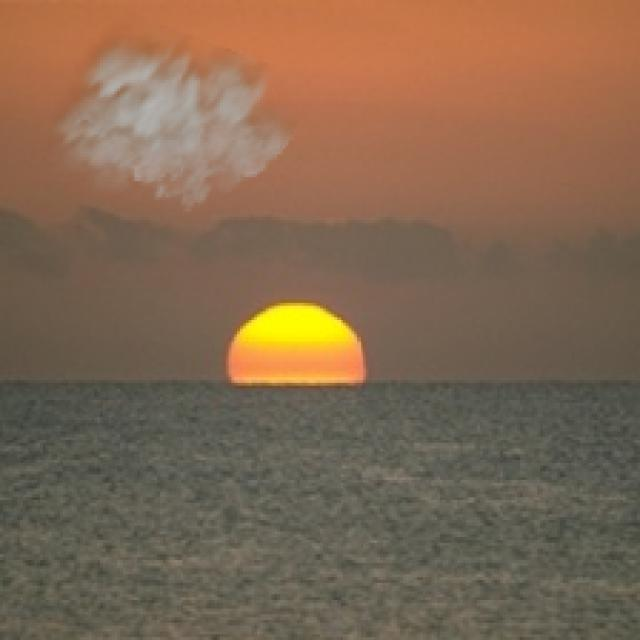smoke: (43, 12, 306, 215)
